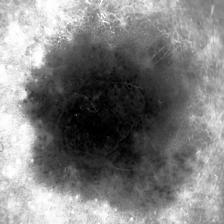Benign Marking or Mole: (25, 27, 202, 214)
